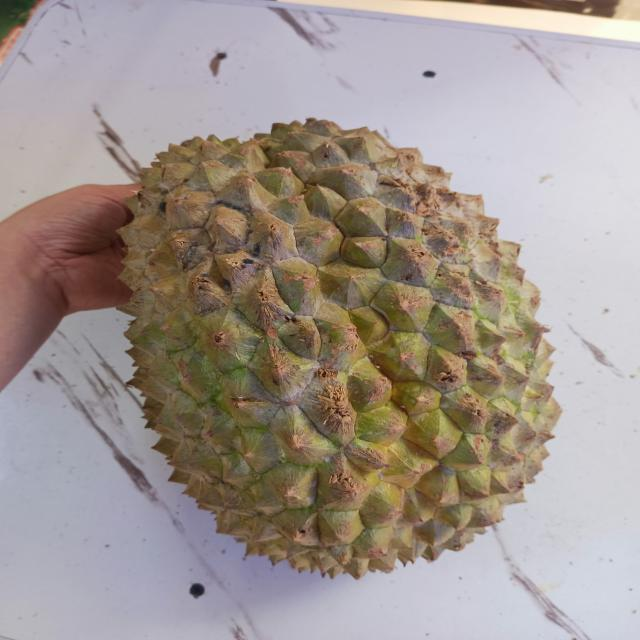mature: (121, 118, 561, 578)
